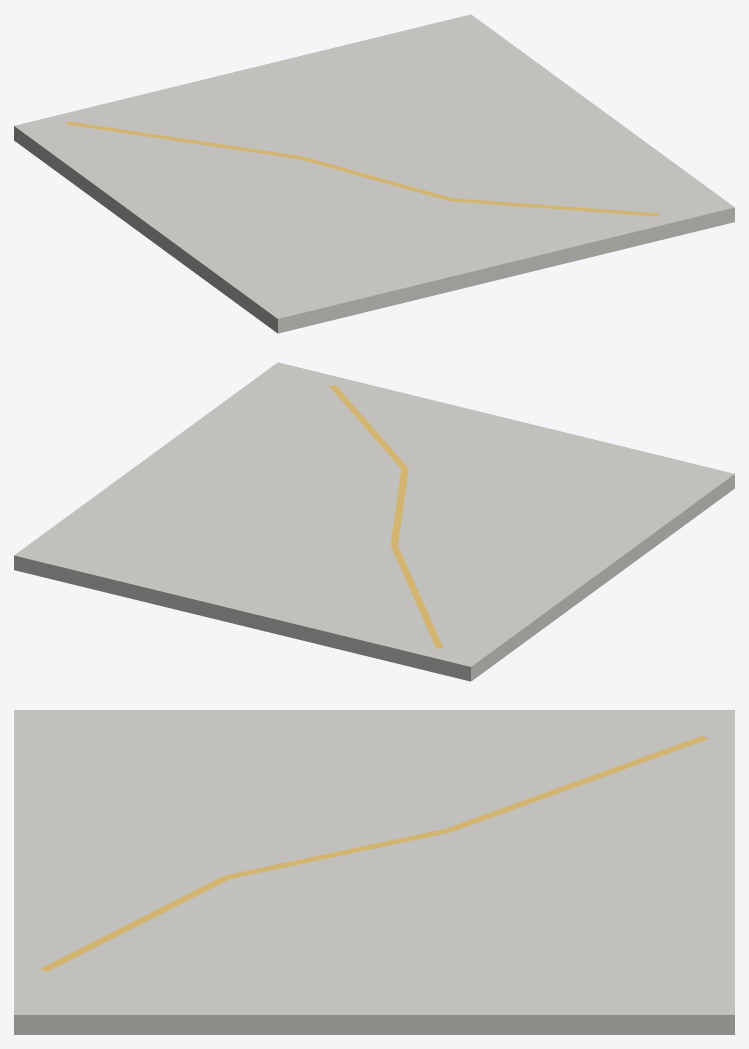
The model's file is raum_fliese_a.glb.
3 views of the same model, one above another, from view 1: azimuth 30°, elevation 25°; view 2: azimuth 150°, elevation 25°; view 3: azimuth 270°, elevation 25° (orthographic). The views are drawn at different scales.
Visible parts, largest first — view 1: raum_fliese_a; view 2: raum_fliese_a; view 3: raum_fliese_a.
Boxes of the visible parts, bbox=[...] form: raum_fliese_a: bbox=[14, 14, 734, 333]; raum_fliese_a: bbox=[14, 362, 734, 681]; raum_fliese_a: bbox=[14, 710, 734, 1034].
Size of the model in its own units: 0.98 by 0.0312 by 0.98.
